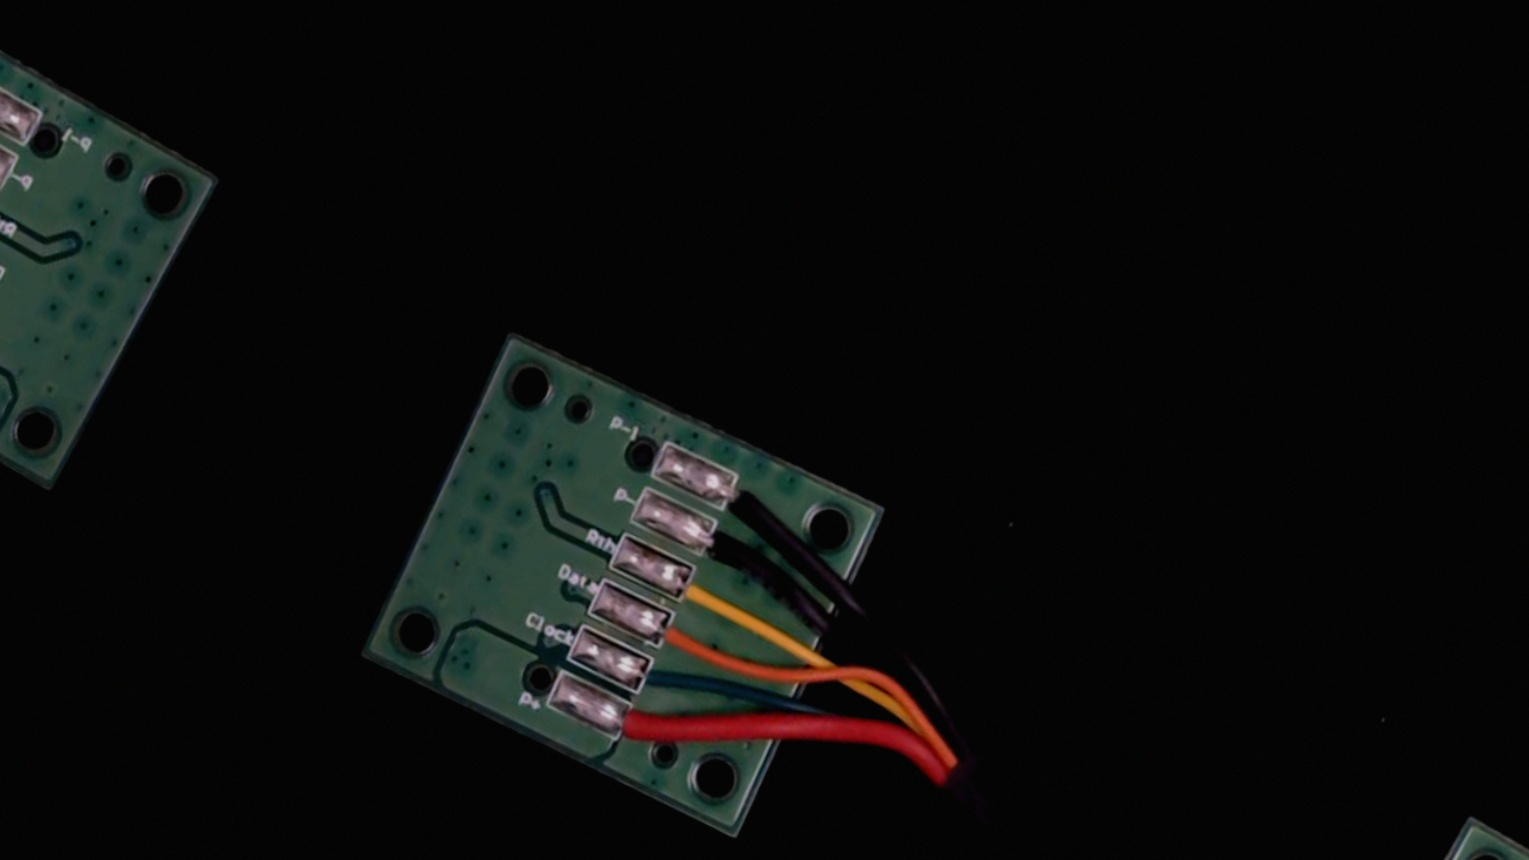Black: (679, 512, 770, 584)
Black1: (701, 464, 788, 534)
Green: (613, 650, 704, 722)
Orange: (634, 606, 724, 675)
Red: (592, 690, 692, 771)
Yellow: (657, 557, 747, 630)
